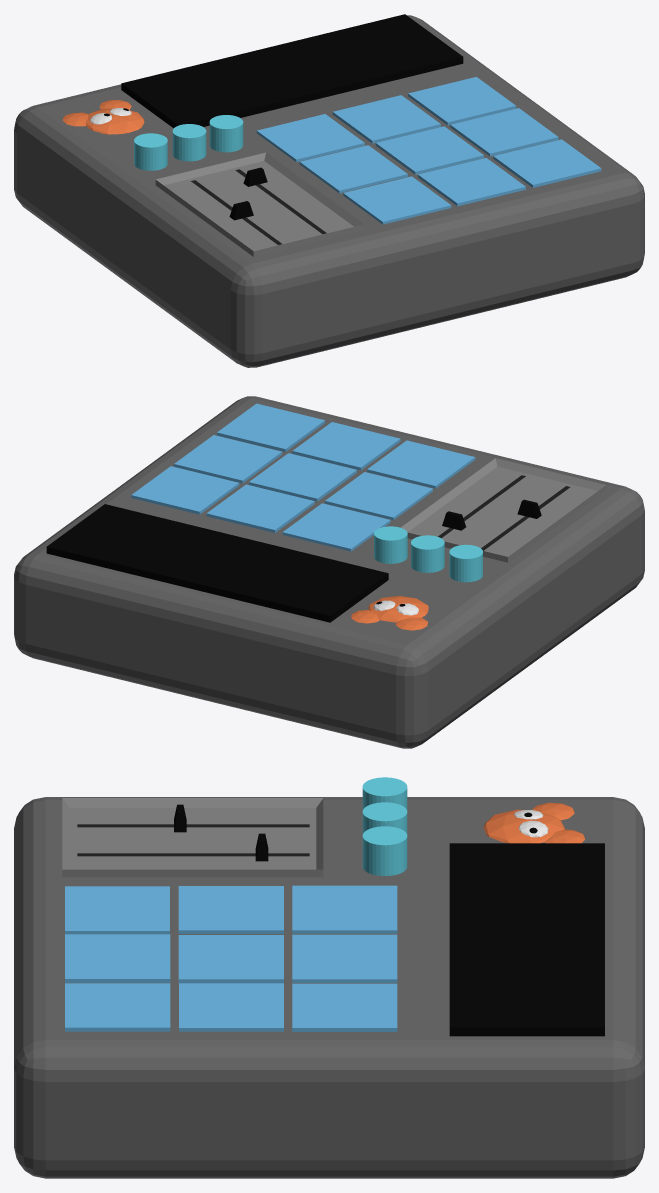
File: drummachine3d.gltf
3 views of the same model, one above another, from view 1: azimuth 30°, elevation 25°; view 2: azimuth 150°, elevation 25°; view 3: azimuth 270°, elevation 25° (orthographic). The views are drawn at different scales.
Visible parts, largest first — view 1: Cube, Cube.001, Cube.018, button9, button5, button2, button3, button8, button6, button7, button4, button1 (+4 smaller); view 2: Cube, Cube.001, Cube.018, button2, button9, button8, button5, button3, button6, button7, button4, button1 (+4 smaller); view 3: Cube, Cube.001, Cube.018, button9, button8, button3, button2, button1, button5, button6, button7, button4 (+4 smaller).
Boxes of the visible parts, bbox=[...] form: Cube: bbox=[14, 15, 644, 367]; Cube.001: bbox=[121, 14, 463, 128]; Cube.018: bbox=[155, 152, 364, 256]; button9: bbox=[493, 139, 601, 187]; button5: bbox=[375, 126, 483, 174]; button2: bbox=[332, 95, 440, 143]; button3: bbox=[408, 77, 516, 125]; button8: bbox=[418, 158, 525, 206]; button6: bbox=[450, 108, 558, 156]; button7: bbox=[343, 176, 451, 224]; button4: bbox=[299, 145, 407, 193]; button1: bbox=[256, 114, 364, 162]; Cube: bbox=[14, 396, 644, 748]; Cube.001: bbox=[46, 504, 388, 622]; Cube.018: bbox=[401, 458, 606, 562]; button2: bbox=[206, 484, 314, 532]; button9: bbox=[217, 403, 324, 451]; button8: bbox=[292, 422, 400, 470]; button5: bbox=[249, 453, 356, 501]; button3: bbox=[131, 466, 239, 514]; button6: bbox=[174, 435, 282, 483]; button7: bbox=[367, 440, 475, 488]; button4: bbox=[325, 472, 432, 520]; button1: bbox=[282, 503, 390, 551]; Cube: bbox=[14, 797, 644, 1178]; Cube.001: bbox=[449, 843, 604, 1036]; Cube.018: bbox=[62, 798, 323, 877]; button9: bbox=[65, 983, 170, 1031]; button8: bbox=[65, 934, 170, 982]; button3: bbox=[292, 983, 397, 1031]; button2: bbox=[292, 934, 397, 982]; button1: bbox=[292, 885, 397, 933]; button5: bbox=[178, 935, 283, 983]; button6: bbox=[179, 983, 283, 1031]; button7: bbox=[65, 886, 169, 934]; button4: bbox=[178, 886, 283, 933].
Size of the model in its own units: 2 by 0.5827 by 2.
